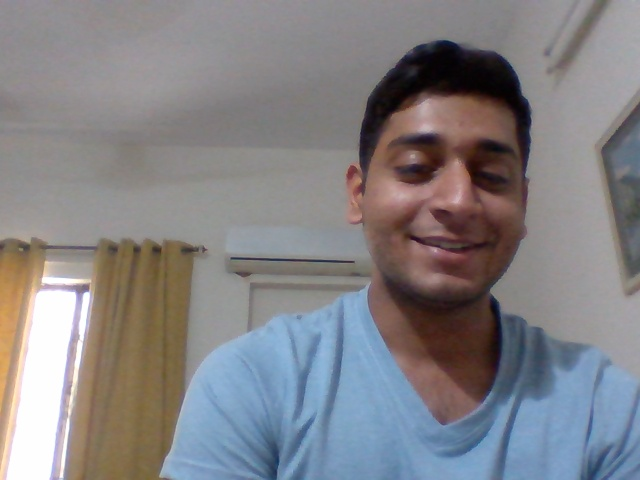happy: (388, 59, 516, 306)
